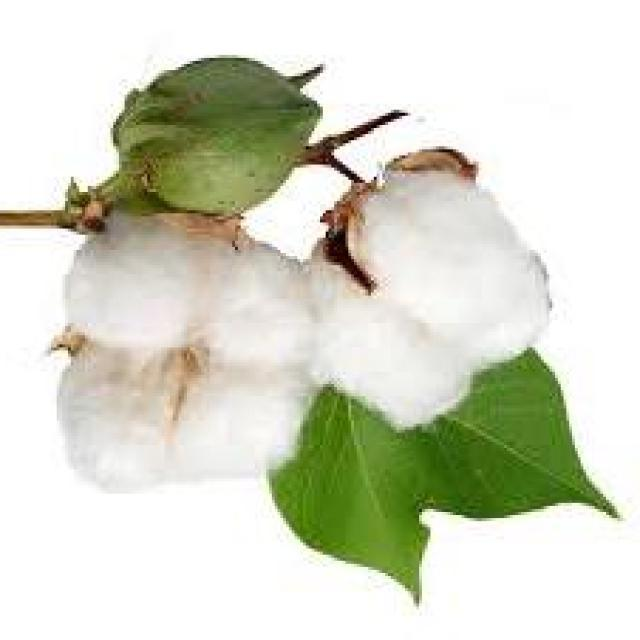Early Boll: (117, 52, 321, 214)
Matured Cotton Boll: (48, 212, 315, 499), (317, 160, 551, 434)
